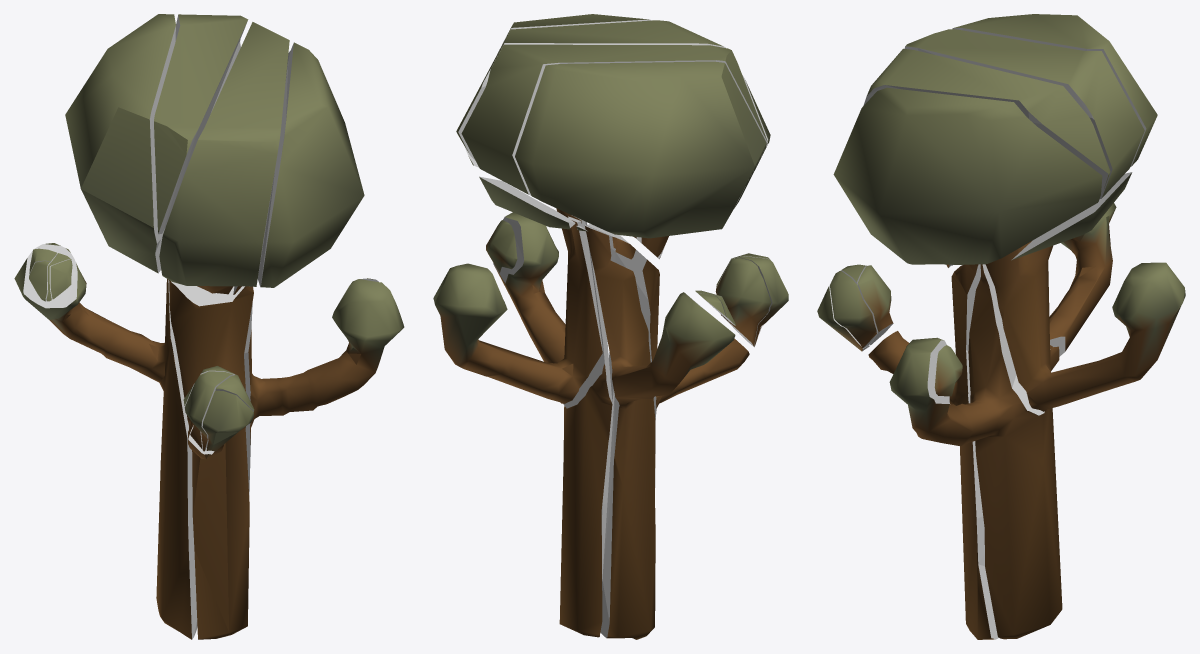
Rendered from Trees(2).glb.
3 views of the same model, side by side, from view 1: azimuth 30°, elevation 25°; view 2: azimuth 150°, elevation 25°; view 3: azimuth 270°, elevation 25° (orthographic). The views are drawn at different scales.
Visible parts, largest first — view 1: Root.006, Root.009, Root.001, Root, Root.016, Root.010, Root.004, Root.007, Root.002, Root.012, Root.018; view 2: Root.001, Root, Root.004, Root.013, Root.010, Root.009, Root.006, Root.011, Root.016, Root.002, Root.014; view 3: Root.016, Root.004, Root.013, Root.010, Root.006, Root.009, Root.001, Root, Root.017, Root.011, Root.014, Root.007.
Part boxes in pixels (box(x1,y1,x2,y2)): Root.006: box(159, 22, 289, 294); Root.009: box(169, 280, 253, 639); Root.001: box(65, 14, 175, 273); Root: box(14, 243, 197, 639); Root.016: box(233, 42, 364, 294); Root.010: box(154, 14, 248, 234); Root.004: box(244, 279, 404, 494); Root.007: box(202, 390, 253, 451); Root.002: box(184, 371, 233, 451); Root.012: box(50, 260, 72, 299); Root.018: box(29, 261, 50, 301); Root.001: box(515, 61, 766, 257); Root: box(585, 225, 735, 639); Root.004: box(493, 212, 612, 637); Root.013: box(433, 176, 602, 403); Root.010: box(461, 44, 767, 258); Root.009: box(586, 224, 749, 580); Root.006: box(456, 20, 770, 251); Root.011: box(715, 258, 771, 346); Root.016: box(464, 14, 651, 167); Root.002: box(735, 256, 788, 346); Root.014: box(486, 220, 517, 272); Root.016: box(833, 87, 1102, 267); Root.004: box(889, 264, 1062, 639); Root.013: box(985, 172, 1185, 411); Root.010: box(904, 29, 1144, 198); Root.006: box(863, 48, 1110, 265); Root.009: box(868, 264, 998, 639); Root.001: box(952, 14, 1157, 166); Root: box(1049, 203, 1116, 356); Root.017: box(830, 270, 876, 348); Root.011: box(857, 265, 893, 345); Root.014: box(934, 345, 962, 396); Root.007: box(817, 282, 868, 351).
Bounding box in the file's own units: 1.84 × 3.32 × 1.89.
